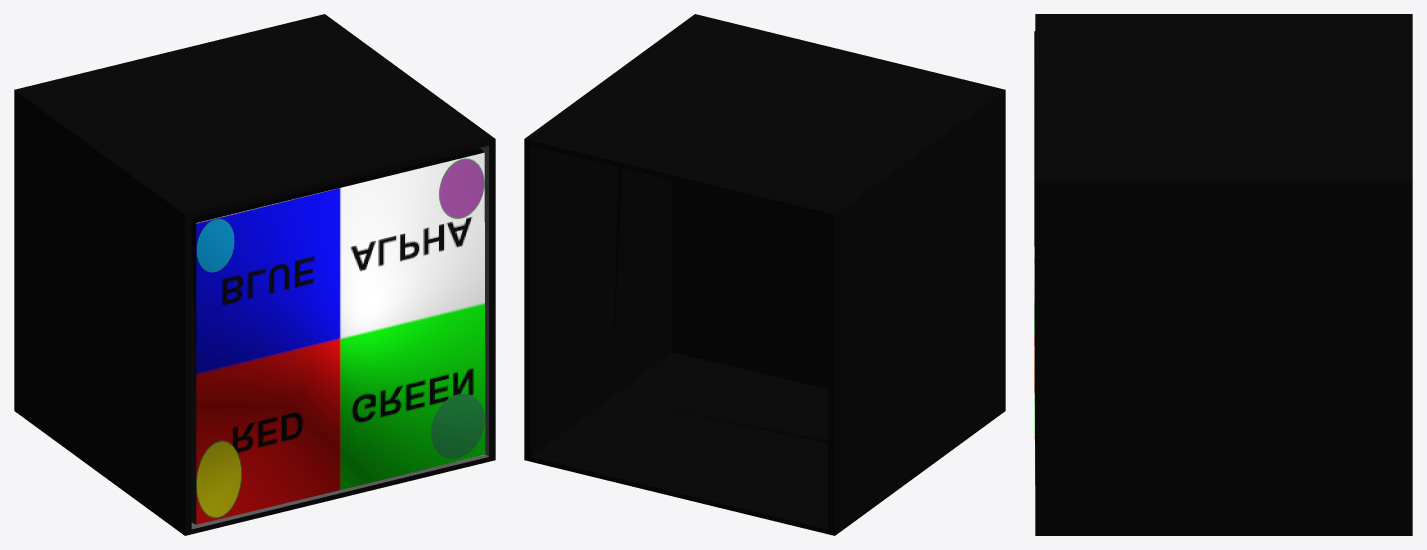
Rendered from frameAmerican.glb.
3 views of the same model, side by side, from view 1: azimuth 30°, elevation 25°; view 2: azimuth 150°, elevation 25°; view 3: azimuth 270°, elevation 25° (orthographic). The views are drawn at different scales.
Visible parts, largest first — view 1: Material2, A_PaintingMesh, Material3.001; view 2: Material2, Material3.004, Mat, A_PaintingMesh; view 3: Material2, A_PaintingMesh.
Boxes of the visible parts, left/top/right/bottom form: Material2: left=14, top=14, right=495, bottom=535; A_PaintingMesh: left=191, top=148, right=485, bottom=524; Material3.001: left=191, top=145, right=488, bottom=529; Material2: left=524, top=14, right=1005, bottom=535; Material3.004: left=531, top=145, right=828, bottom=529; Mat: left=671, top=180, right=828, bottom=389; A_PaintingMesh: left=612, top=167, right=828, bottom=443; Material2: left=1035, top=14, right=1412, bottom=535; A_PaintingMesh: left=1034, top=31, right=1035, bottom=485.
Size of what is drawn, in the model's own units: 1.07 by 1.05 by 1.02.
6 materials, 1 textured.
